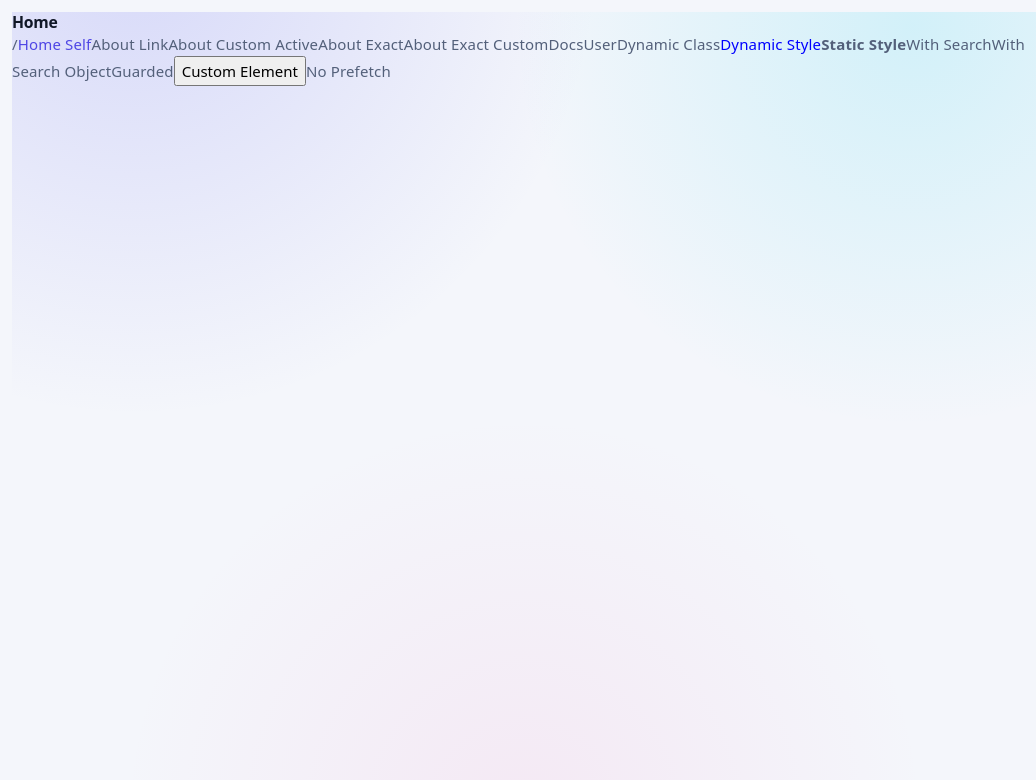
it: Link component › click behavior › navigates on click
Expected: the heading "Home" is shown, x1=12 y1=11 x2=58 y2=33
Click the link "About Link": (130, 44) x1=91 y1=34 x2=168 y2=54
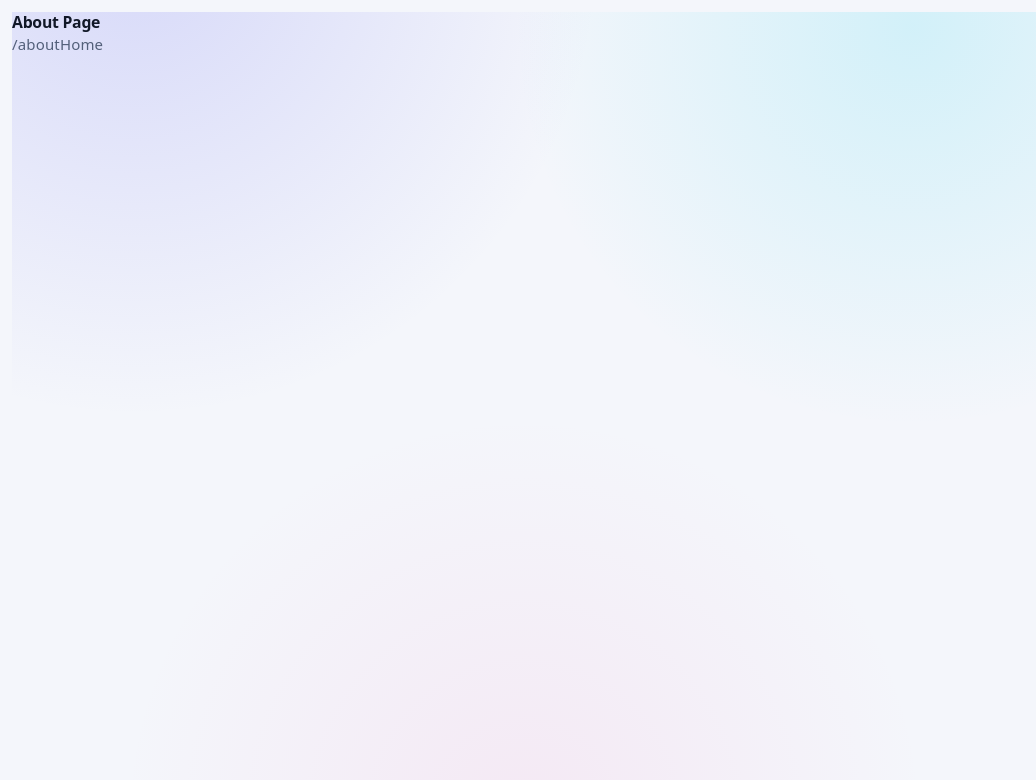
Now the heading "About Page" is shown, box x1=12 y1=11 x2=100 y2=33
Now the text "/about" is shown, box x1=12 y1=34 x2=60 y2=54
